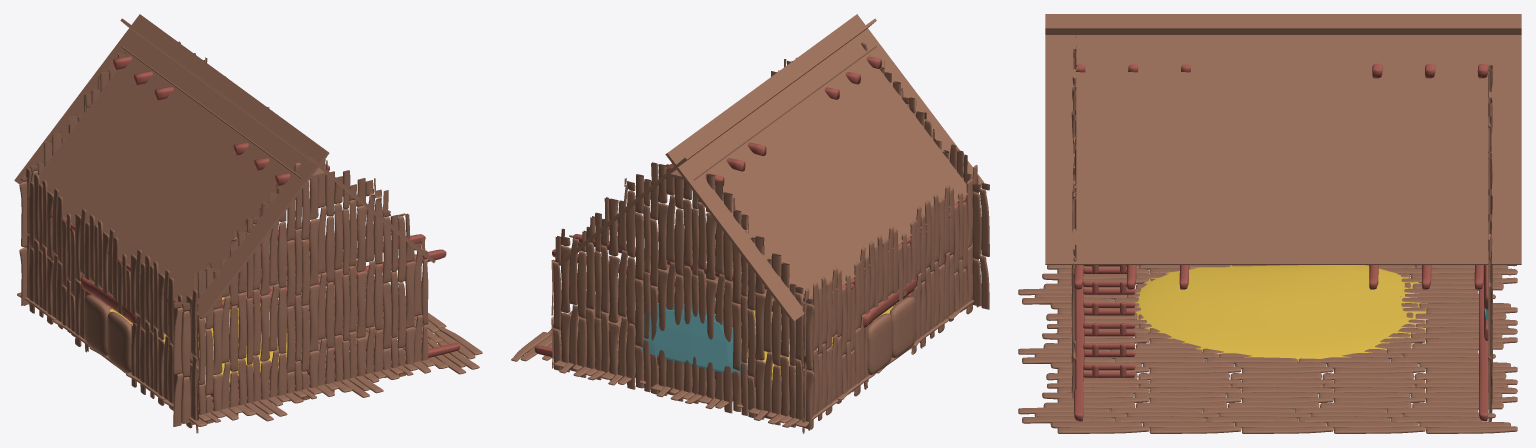
Rendered from inbtérieur grange .fbx.
3 views of the same model, side by side, from view 1: azimuth 30°, elevation 25°; view 2: azimuth 150°, elevation 25°; view 3: azimuth 270°, elevation 25° (orthographic). The views are drawn at different scales.
Visible parts, largest first — view 1: toit 1, Mur gauche, planche derriére, plancher, planches_porte_, Mur droit, poutres, toit 2, Encadrement porte.001, Paille, Cube.031, toit 3; view 2: toit 1, Mur droit, planche derriére, plancher, fenêtre, Mur gauche, planches_porte_, toit 2, poutres, Encadrement porte.001, toit 3, Cube.031; view 3: toit 2, plancher, Paille, toit 1, poutres, box, Mur droit, Mur gauche.
Boxes of the visible parts, x1,y1,x2,y2 form: toit 1: [14, 14, 329, 318]; Mur gauche: [173, 157, 428, 426]; planche derriére: [23, 167, 198, 433]; plancher: [17, 223, 482, 426]; planches_porte_: [84, 295, 132, 372]; Mur droit: [19, 41, 278, 305]; poutres: [28, 142, 459, 412]; toit 2: [120, 18, 435, 262]; Encadrement porte.001: [81, 276, 142, 328]; Paille: [108, 295, 287, 384]; Cube.031: [113, 56, 173, 100]; toit 3: [121, 46, 327, 178]; toit 1: [665, 14, 983, 322]; Mur droit: [551, 162, 814, 429]; planche derriére: [802, 165, 978, 433]; plancher: [511, 222, 973, 427]; fenêtre: [639, 303, 747, 374]; Mur gauche: [771, 42, 989, 309]; planches_porte_: [867, 296, 915, 374]; toit 2: [558, 18, 876, 265]; poutres: [534, 56, 970, 414]; Encadrement porte.001: [859, 277, 916, 327]; toit 3: [668, 46, 876, 180]; Cube.031: [666, 142, 766, 185]; toit 2: [1045, 14, 1521, 264]; plancher: [1018, 265, 1517, 433]; Paille: [1134, 265, 1428, 362]; toit 1: [1045, 25, 1521, 34]; poutres: [1074, 64, 1488, 421]; box: [1083, 265, 1135, 377]; Mur droit: [1488, 65, 1492, 421]; Mur gauche: [1071, 35, 1076, 398].
Bounding box in the file's own units: 1339 × 1080 × 1520.
